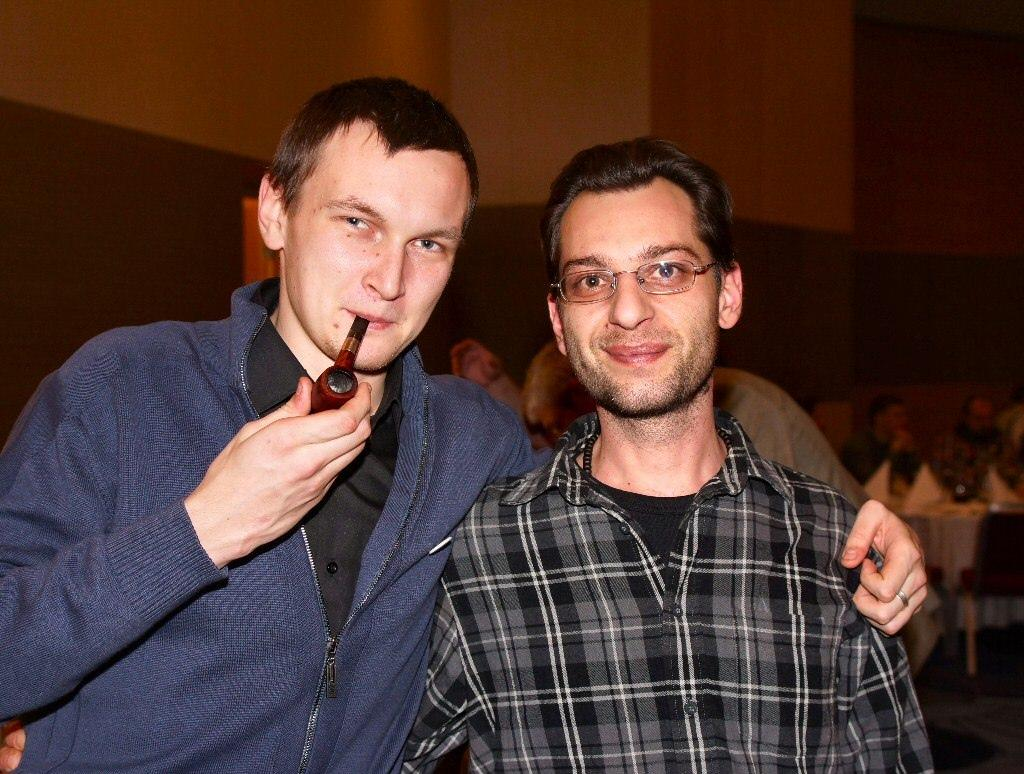trubka: (311, 316, 369, 414)
